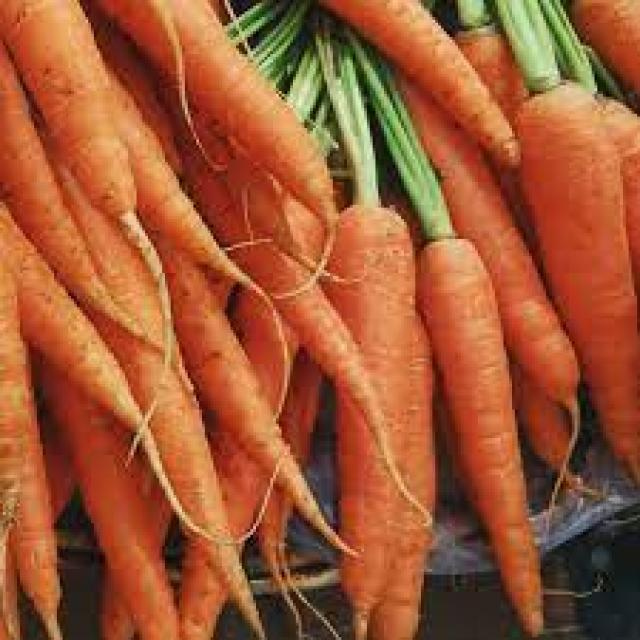Carrot: (419, 238, 548, 632)
